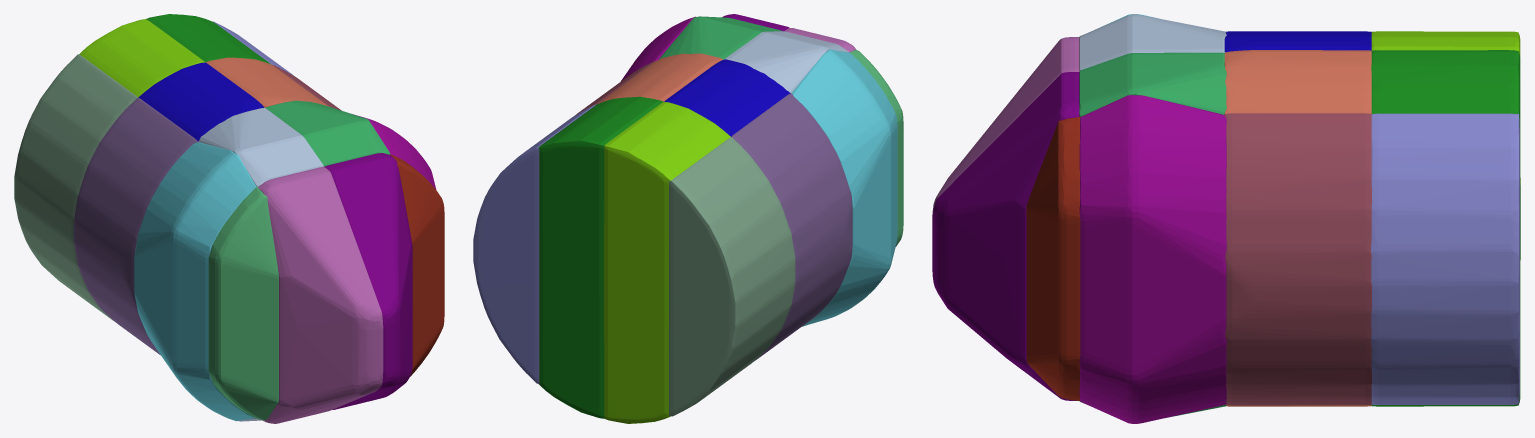
File: forearm_1_split.obj
The picture shows the model from 3 angles, left to right: view 1: azimuth 30°, elevation 25°; view 2: azimuth 150°, elevation 25°; view 3: azimuth 270°, elevation 25°; orthographic projection. The views are drawn at different scales.
Visible parts, largest first — view 1: geometry_7, geometry_2, geometry_0, geometry_1, geometry_3, geometry_11, geometry_15, geometry_6, geometry_4, geometry_5, geometry_10, geometry_9 (+2 smaller); view 2: geometry_0, geometry_4, geometry_8, geometry_2, geometry_1, geometry_12, geometry_5, geometry_6, geometry_10, geometry_9, geometry_3, geometry_14 (+1 smaller); view 3: geometry_14, geometry_12, geometry_13, geometry_11, geometry_15, geometry_8, geometry_9, geometry_10, geometry_6, geometry_7, geometry_4, geometry_5.
Boxes of the visible parts, x1=… form: geometry_7: x1=258, y1=167, x2=383, y2=423; geometry_2: x1=134, y1=142, x2=256, y2=421; geometry_0: x1=14, y1=54, x2=137, y2=321; geometry_1: x1=73, y1=97, x2=198, y2=355; geometry_3: x1=208, y1=187, x2=278, y2=420; geometry_11: x1=324, y1=153, x2=412, y2=409; geometry_15: x1=390, y1=154, x2=444, y2=376; geometry_6: x1=198, y1=107, x2=323, y2=421; geometry_4: x1=79, y1=19, x2=204, y2=97; geometry_5: x1=138, y1=62, x2=263, y2=141; geometry_10: x1=265, y1=100, x2=390, y2=166; geometry_9: x1=205, y1=57, x2=328, y2=107; geometry_0: x1=669, y1=137, x2=795, y2=416; geometry_4: x1=604, y1=102, x2=730, y2=423; geometry_8: x1=538, y1=96, x2=663, y2=418; geometry_2: x1=791, y1=49, x2=897, y2=326; geometry_1: x1=731, y1=93, x2=852, y2=360; geometry_12: x1=473, y1=104, x2=596, y2=383; geometry_5: x1=664, y1=59, x2=790, y2=136; geometry_6: x1=724, y1=31, x2=849, y2=326; geometry_10: x1=658, y1=16, x2=782, y2=59; geometry_9: x1=598, y1=53, x2=722, y2=103; geometry_3: x1=849, y1=50, x2=903, y2=246; geometry_14: x1=620, y1=16, x2=695, y2=81; geometry_14: x1=1079, y1=95, x2=1226, y2=423; geometry_12: x1=1371, y1=113, x2=1519, y2=404; geometry_13: x1=1224, y1=113, x2=1372, y2=405; geometry_11: x1=932, y1=72, x2=1079, y2=400; geometry_15: x1=1026, y1=117, x2=1080, y2=400; geometry_8: x1=1371, y1=50, x2=1520, y2=406; geometry_9: x1=1224, y1=50, x2=1371, y2=406; geometry_10: x1=1079, y1=52, x2=1226, y2=417; geometry_6: x1=1079, y1=14, x2=1226, y2=71; geometry_7: x1=932, y1=37, x2=1079, y2=216; geometry_4: x1=1371, y1=31, x2=1520, y2=184; geometry_5: x1=1224, y1=31, x2=1371, y2=52.
Size of the model in its own units: 137 by 137 by 215.
